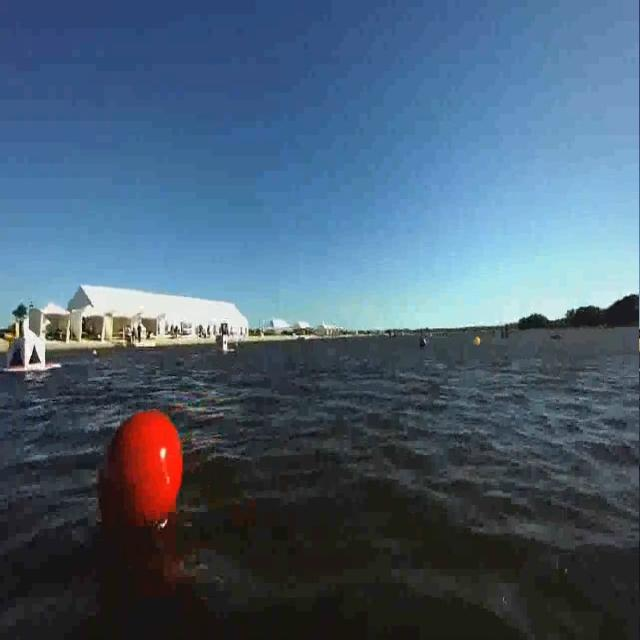red-buoy: (91, 406, 191, 536)
yellow-buoy: (473, 335, 481, 349)
